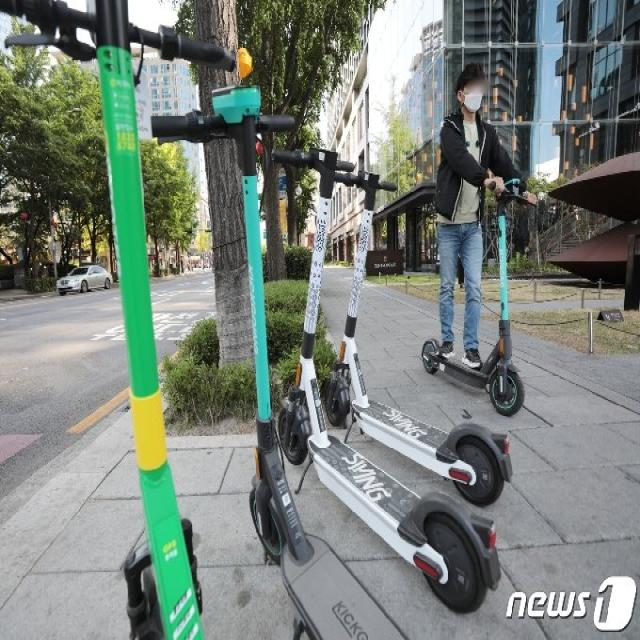non-helmet: (416, 59, 534, 418)
